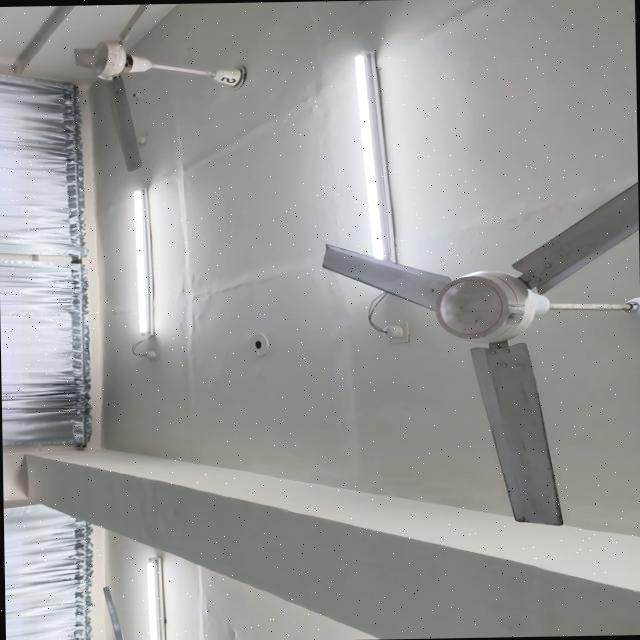Light: (351, 51, 396, 264), (133, 188, 153, 338), (146, 555, 166, 640)
